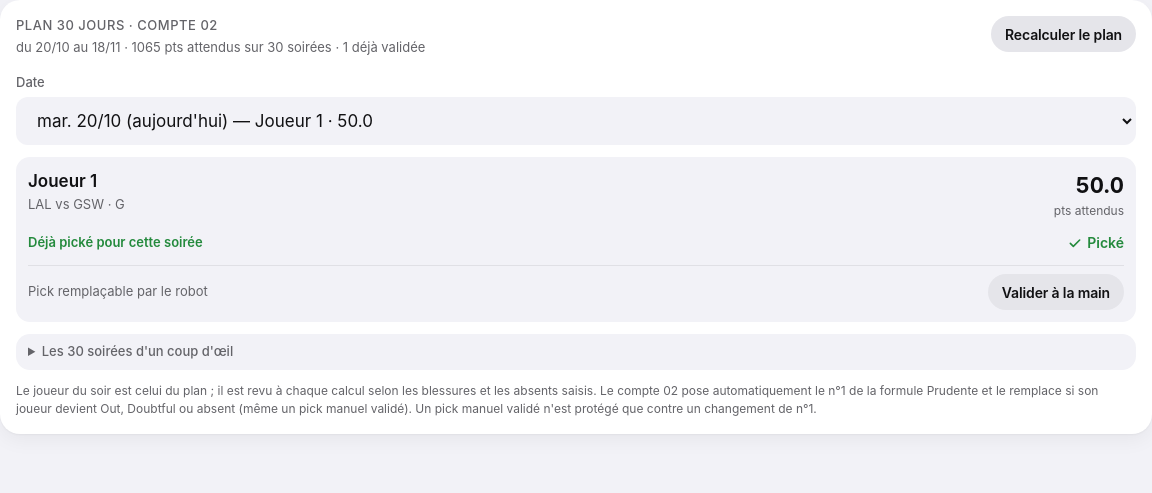
Test: Pick manuel validé (compte 02) › pick posé non verrouillé : « Valider à la main » verrouille le joueur du soir
The image size is (1152, 493).
Expected: the text "Pick remplaçable par le robot" is shown, [28, 282, 208, 302]
Click the button "Valider à la main".
click(1056, 292)  # box [988, 274, 1124, 310]
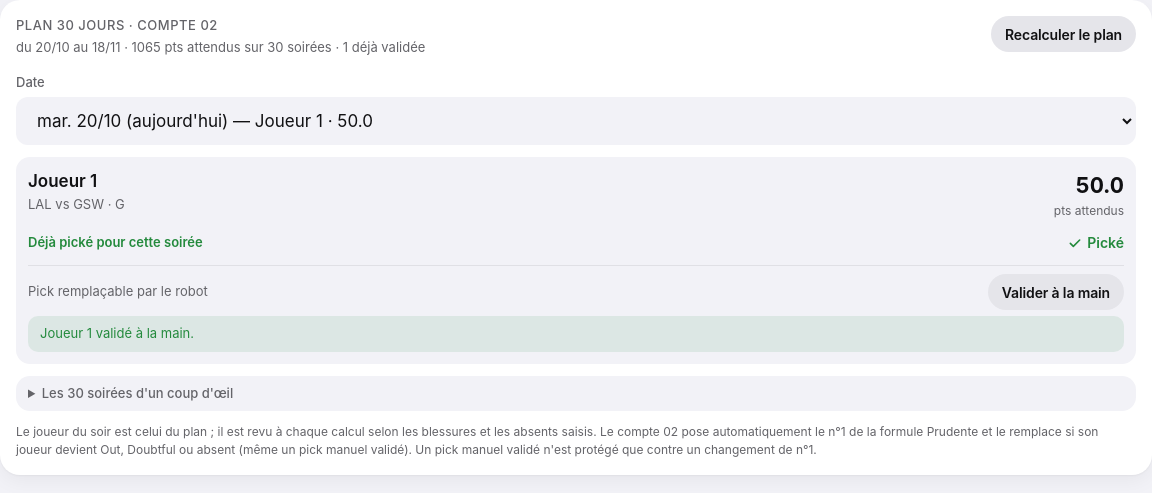
Now the text "Joueur 1 validé à la main." is shown, box [28, 316, 1124, 352]
